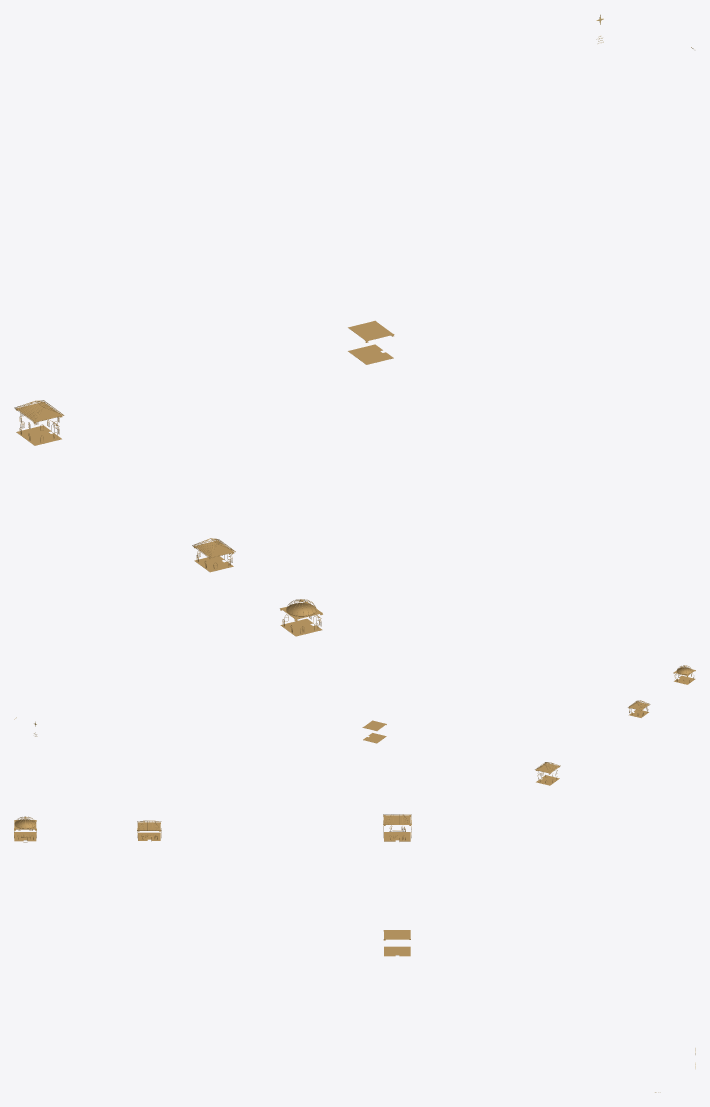
File: Neris-24.glb
3 views of the same model, one above another, from view 1: azimuth 30°, elevation 25°; view 2: azimuth 150°, elevation 25°; view 3: azimuth 270°, elevation 25° (orthographic). The views are drawn at different scales.
Parts seen in each view (by area): view 1: Aged Gold; view 2: Aged Gold; view 3: Aged Gold.
Part boxes in pixels (x1=…): Aged Gold: x1=14, y1=320, x2=394, y2=636; Aged Gold: x1=362, y1=665, x2=695, y2=785; Aged Gold: x1=14, y1=814, x2=411, y2=956.
Bounding box in the file's own units: 236 × 21.16 × 231.
